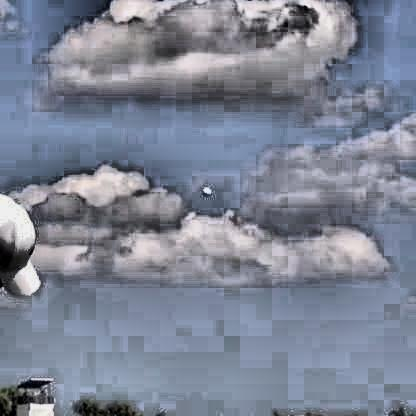golfball: (201, 185, 212, 197)
